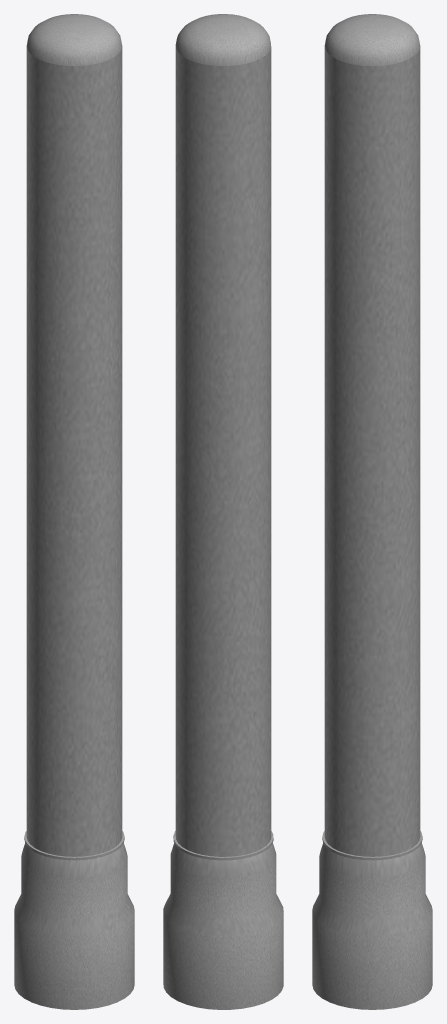
Rendered from body.glb.
The picture shows the model from 3 angles, left to right: view 1: azimuth 90°, elevation 25°; view 2: azimuth 210°, elevation 25°; view 3: azimuth 270°, elevation 25°; orthographic projection.
Visible parts, largest first — view 1: body; view 2: body; view 3: body.
Part boxes in pixels (left/top/right/bottom): body: left=14, top=14, right=134, bottom=1009; body: left=163, top=14, right=283, bottom=1009; body: left=312, top=14, right=432, bottom=1009.
Size of the model in its own units: 6.4 by 56.26 by 6.4.
1 material, 1 textured.
